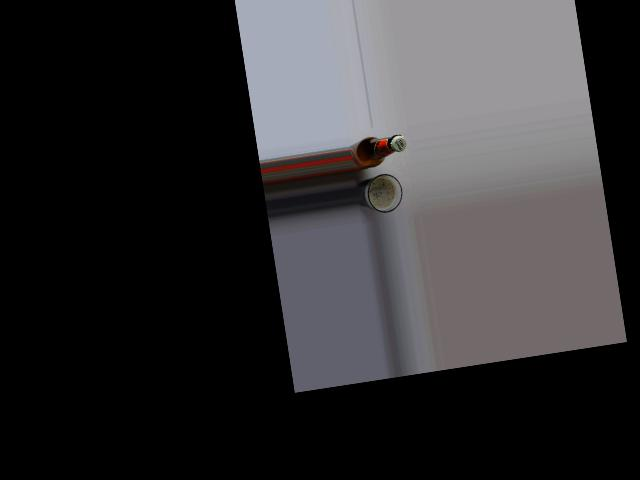beer: (347, 132, 409, 172)
